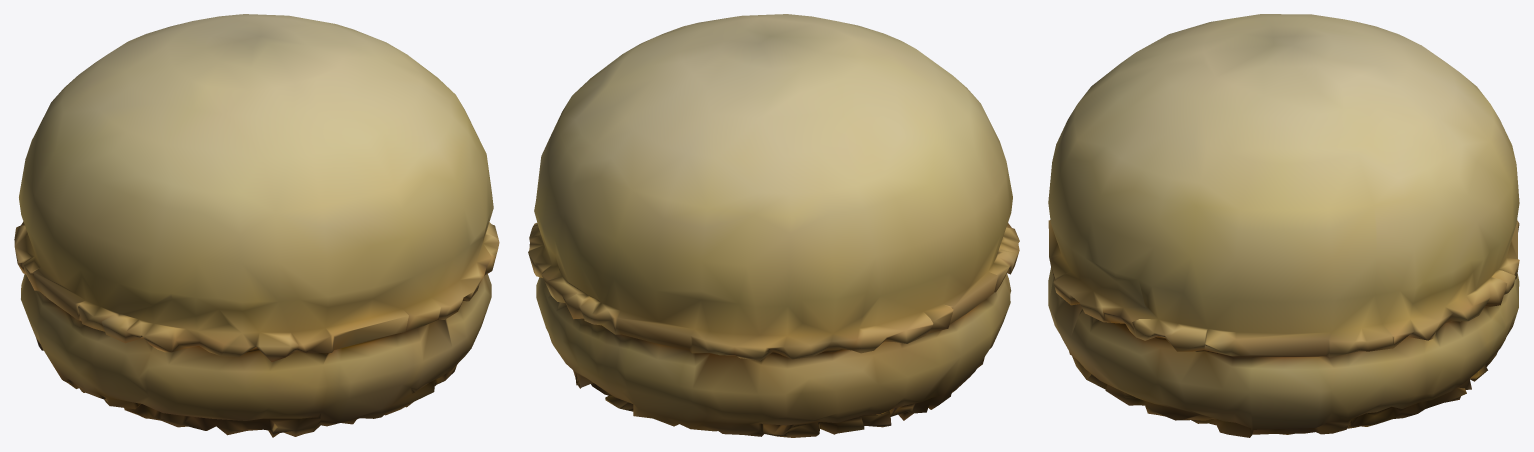
The model's file is haybale_near.glb.
The picture shows the model from 3 angles, left to right: view 1: azimuth 30°, elevation 25°; view 2: azimuth 150°, elevation 25°; view 3: azimuth 270°, elevation 25°; orthographic projection.
Parts seen in each view (by area): view 1: haybale; view 2: haybale; view 3: haybale.
Part boxes in pixels (x1=…): haybale: x1=14, y1=14, x2=499, y2=437; haybale: x1=528, y1=14, x2=1019, y2=437; haybale: x1=1048, y1=14, x2=1519, y2=437.
Bounding box in the file's own units: 1.27 × 1 × 1.27.
